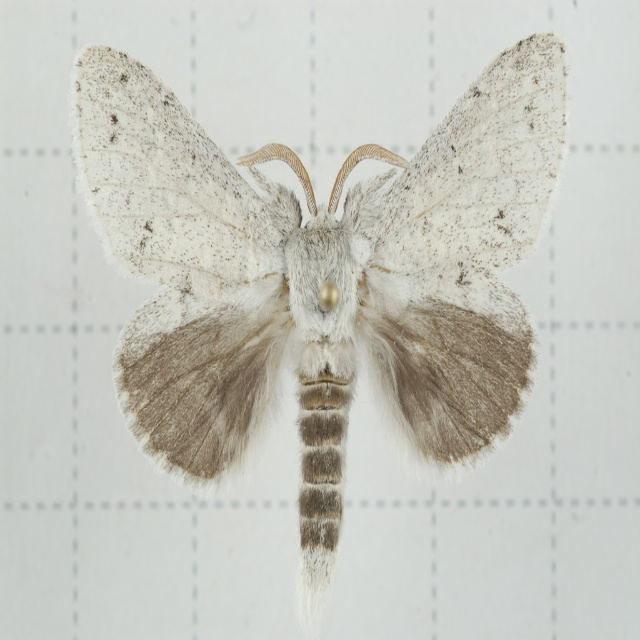Butterfly: (76, 27, 565, 638)
